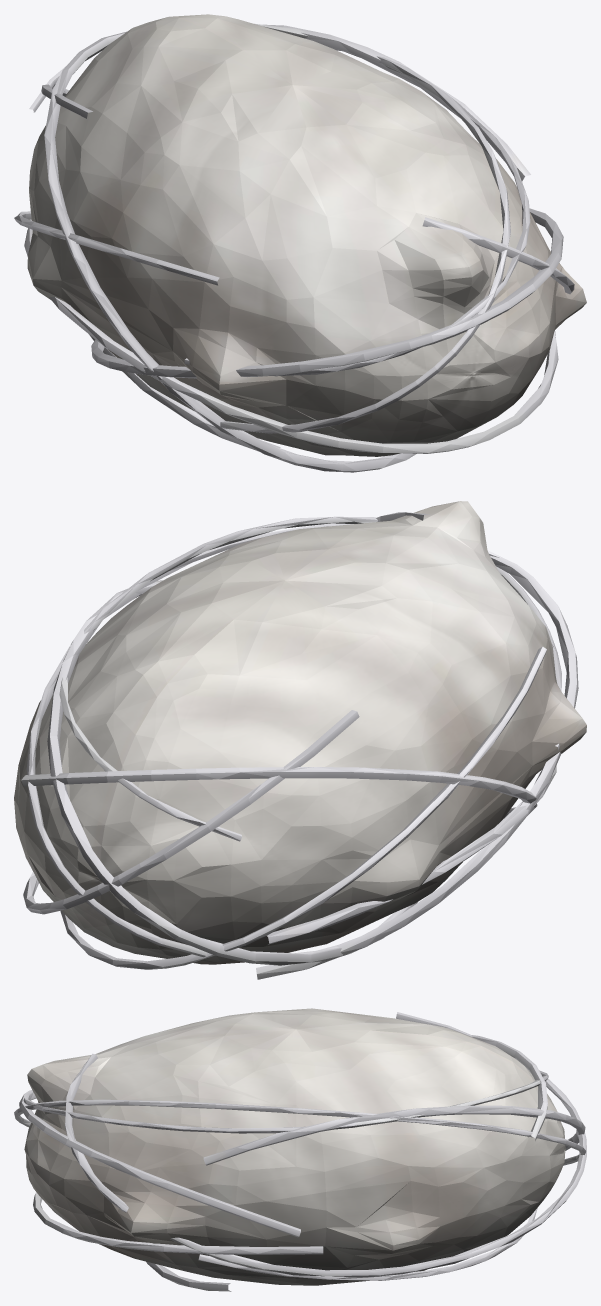
Rendered from presa_v01.glb.
The picture shows the model from 3 angles, top to bottom: view 1: azimuth 30°, elevation 25°; view 2: azimuth 150°, elevation 25°; view 3: azimuth 270°, elevation 25°; orthographic projection. The views are drawn at different scales.
Visible parts, largest first — view 1: presa; view 2: presa; view 3: presa.
Part boxes in pixels (x1,y1,x2,y2): presa: (14, 14, 586, 472); presa: (14, 501, 586, 979); presa: (14, 1008, 586, 1291).
Size of the model in its own units: 0.4372 by 0.3173 by 0.7034.
Materials: 1 (1 with a texture image).
